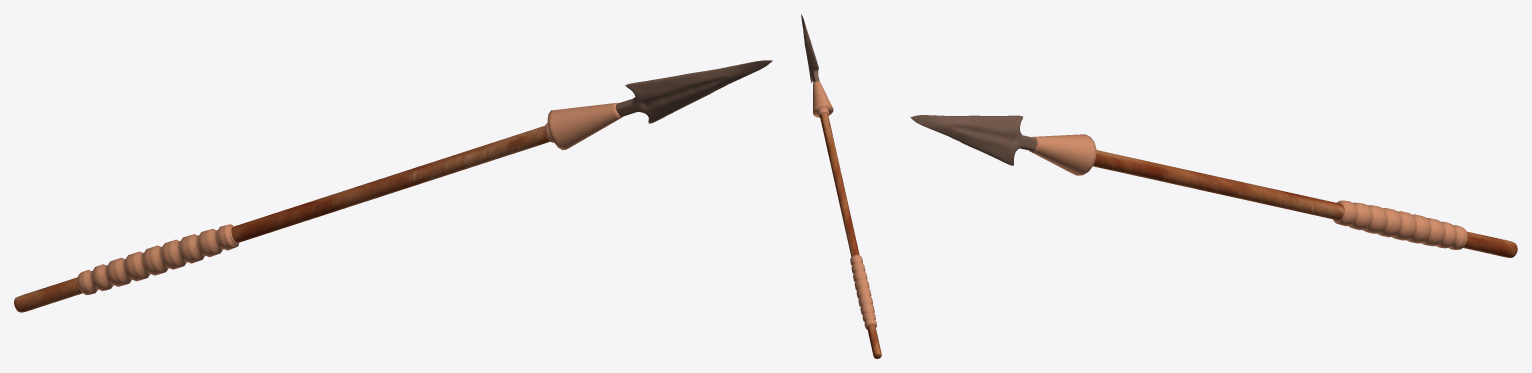
File: COSSACK_WEAPON_18#1.glb
The picture shows the model from 3 angles, left to right: view 1: azimuth 30°, elevation 25°; view 2: azimuth 150°, elevation 25°; view 3: azimuth 270°, elevation 25°; orthographic projection. The views are drawn at different scales.
Parts seen in each view (by area): view 1: Kopie2; view 2: Kopie2; view 3: Kopie2.
Part boxes in pixels (bbox=[...]): Kopie2: bbox=[14, 60, 772, 312]; Kopie2: bbox=[801, 14, 881, 358]; Kopie2: bbox=[910, 115, 1517, 257].
Bounding box in the file's own units: 6.23 × 4.68 × 7.14.
Materials: 1 (1 with a texture image).
